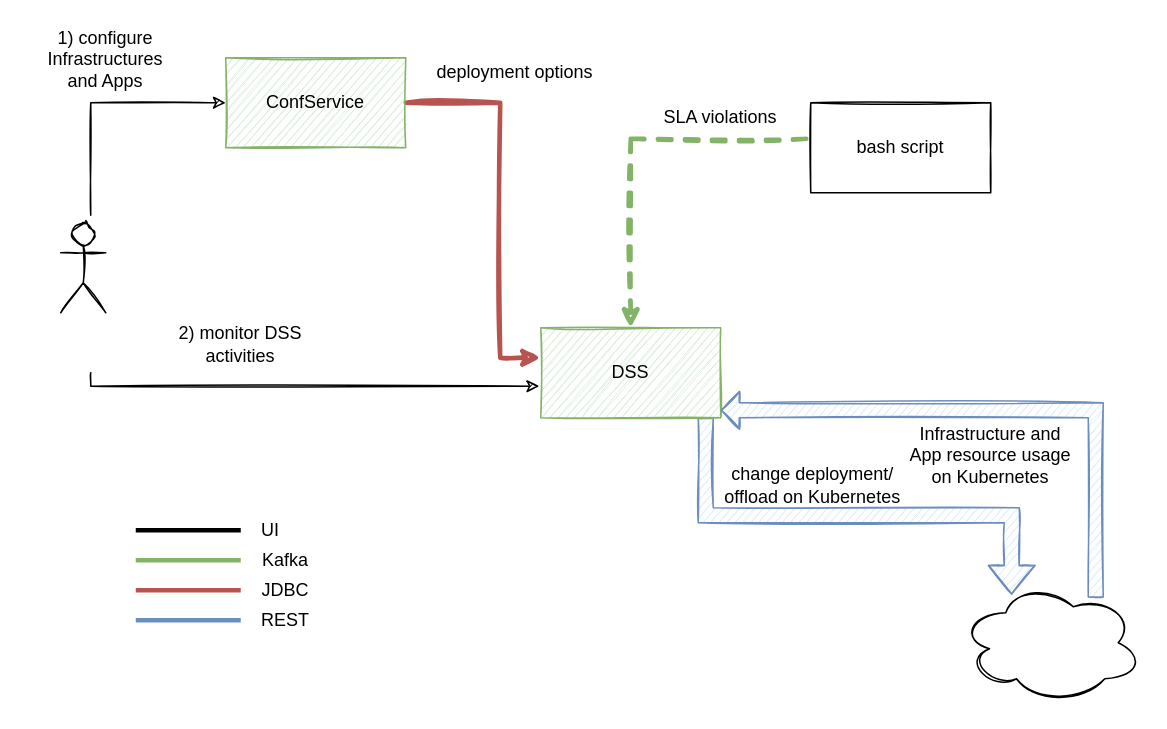
Some shapes in this 1167 by 729 pixel diagram are drawn without their labels. The shapes that lost their labels are listed below. From the top down, each one's box as (x1, y1, x2, y2) in pixels, then its label:
(59, 221, 106, 313): SaaS provider
(959, 581, 1141, 703): Kubernetes Infrastructure
